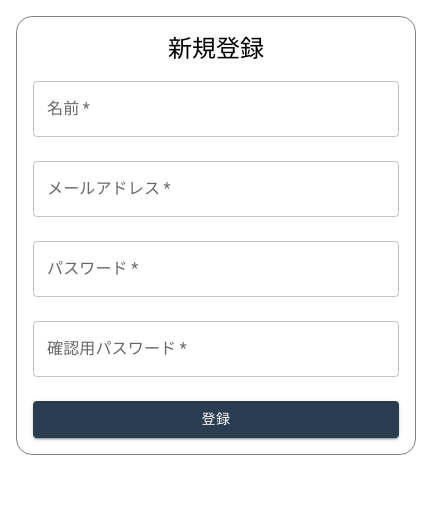
Scenario: 失敗する場合 › メールアドレスが未入力の場合、エラーが表示される
The width and height of the screenshot is (433, 512).
Type "Ares" into the field labelled "名前".
click(216, 109); type("Ares")  # box [33, 81, 399, 137]
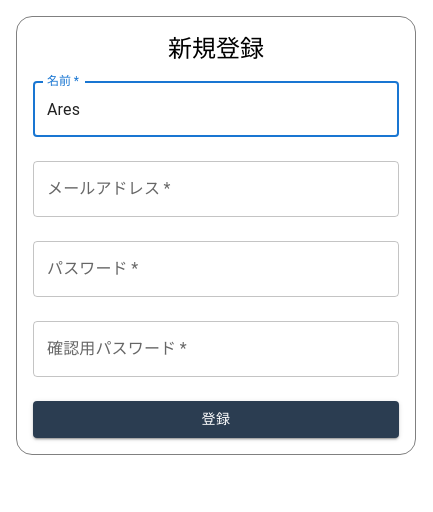
Type "111111" into the password field with placeholder "パスワードを入力してください".
click(216, 269); type("111111")  # box [33, 241, 399, 297]
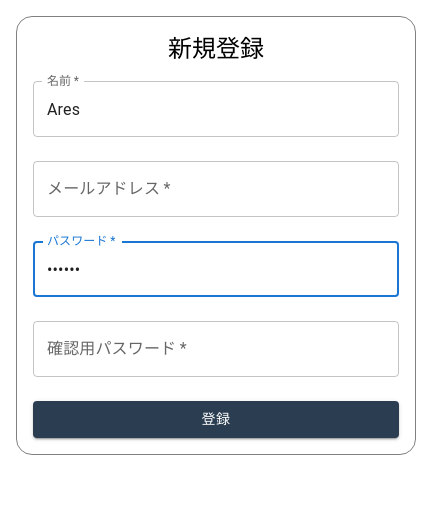
Type "111111" into the password field with placeholder "パスワードを再入力してください".
click(216, 349); type("111111")  # box [33, 321, 399, 377]
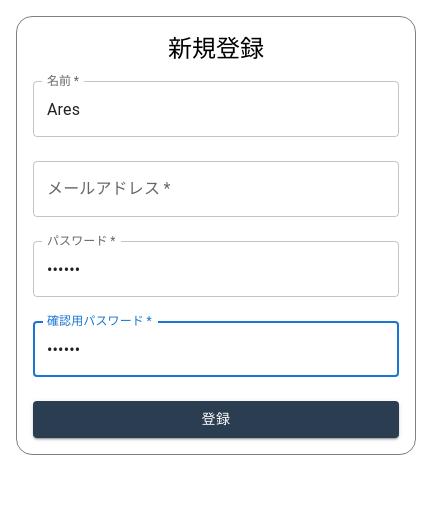
Click the button "登録".
click(216, 419)  # box [33, 401, 399, 438]
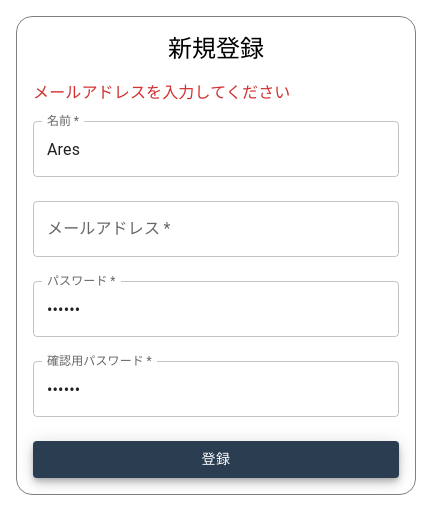
Expected: the text "メールアドレスを入力してください" is shown, [33, 83, 290, 102]
